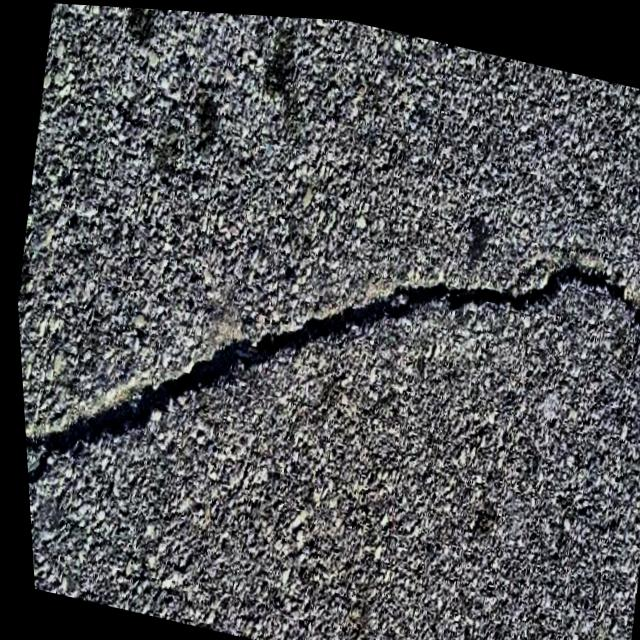cracks: (23, 287, 547, 430)
